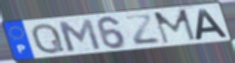6: (96, 15, 127, 50)
A: (194, 8, 229, 42)
M: (55, 18, 104, 53), (152, 8, 198, 45)
Q: (30, 22, 68, 55)
Z: (123, 14, 162, 47)
